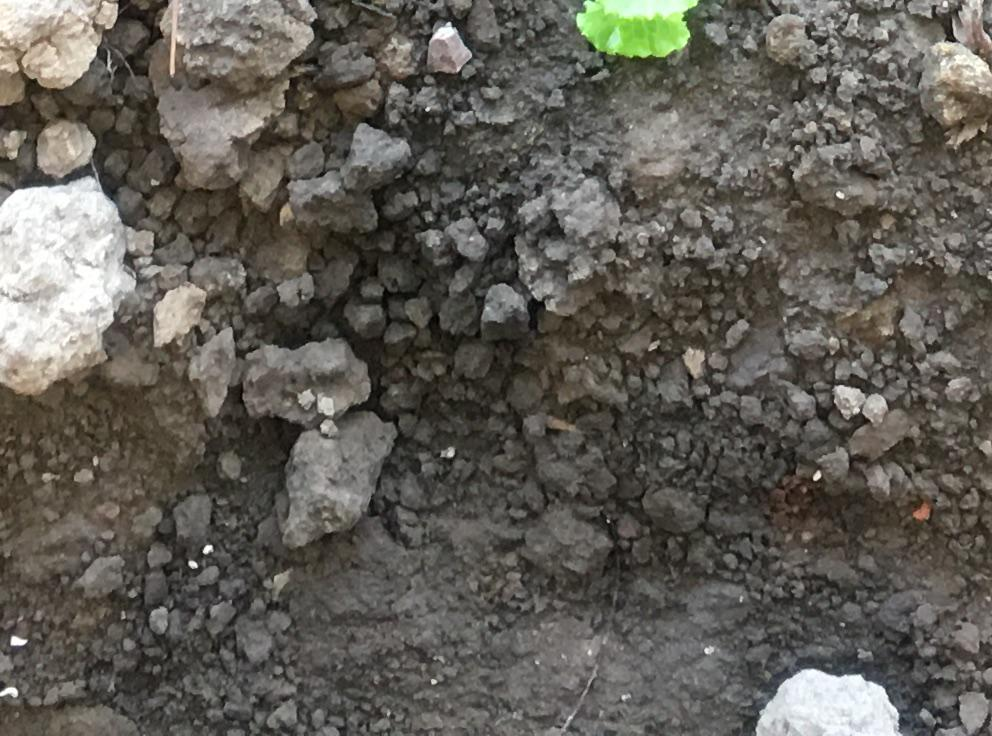block: (152, 1, 309, 197), (1, 183, 133, 400), (278, 410, 392, 550), (243, 338, 379, 433), (1, 1, 109, 104)
